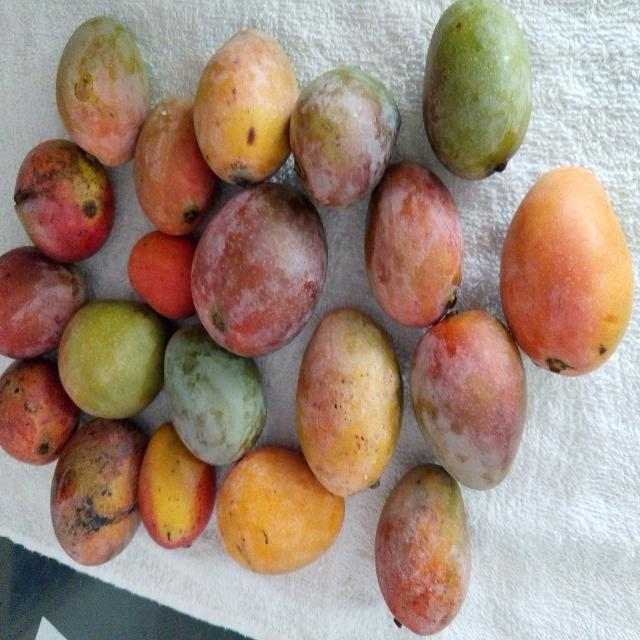mango: (498, 162, 636, 379), (191, 180, 332, 360), (412, 308, 527, 492), (296, 304, 404, 495), (421, 1, 535, 180), (193, 24, 303, 190), (375, 457, 476, 635), (364, 160, 469, 331), (214, 448, 350, 578), (162, 312, 270, 468), (289, 67, 403, 209), (56, 14, 153, 172), (51, 419, 147, 571), (59, 296, 170, 419), (13, 138, 119, 262), (130, 91, 212, 238), (0, 244, 93, 361), (138, 418, 216, 555), (0, 351, 78, 465)
